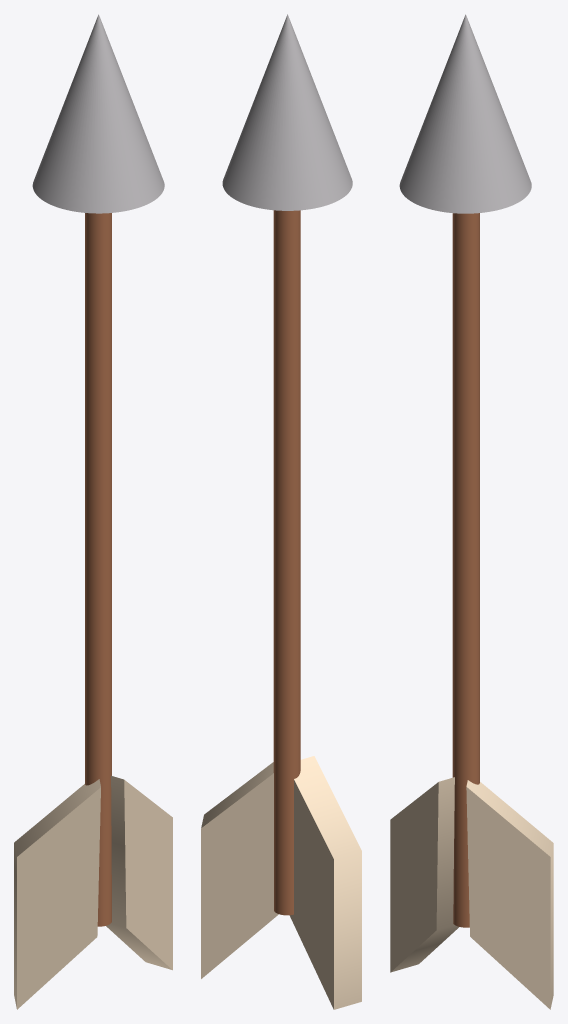
File: arrow.fbx
The picture shows the model from 3 angles, left to right: view 1: azimuth 30°, elevation 25°; view 2: azimuth 150°, elevation 25°; view 3: azimuth 330°, elevation 25°; orthographic projection.
Visible parts, largest first — view 1: node_id112 (×4); view 2: node_id112 (×4); view 3: node_id112 (×4).
Boxes of the visible parts, x1,y1,x2,y2 form: node_id112 (×4): [14, 14, 172, 1009]; node_id112 (×4): [201, 14, 361, 1009]; node_id112 (×4): [390, 14, 553, 1009].
Bounding box in the file's own units: 0.0506 × 0.3001 × 0.0366.
3 materials, 1 textured.
